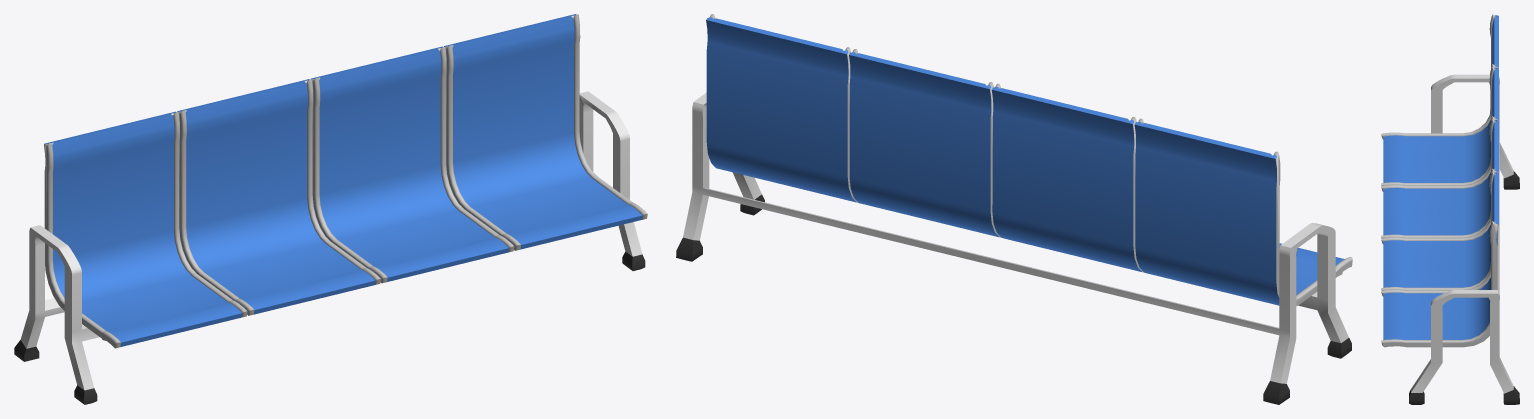
File: bluebench .fbx
3 renders of one model, left to right at view 1: azimuth 30°, elevation 25°; view 2: azimuth 150°, elevation 25°; view 3: azimuth 270°, elevation 25°, orthographic. The views are drawn at different scales.
Visible parts, largest first — view 1: Plane; view 2: Plane; view 3: Plane.
Part boxes in pixels (<box>): Plane: <box>14,14,647,404</box>; Plane: <box>676,14,1352,404</box>; Plane: <box>1381,14,1519,404</box>.
Size of the model in its own units: 927 by 349 by 246.
